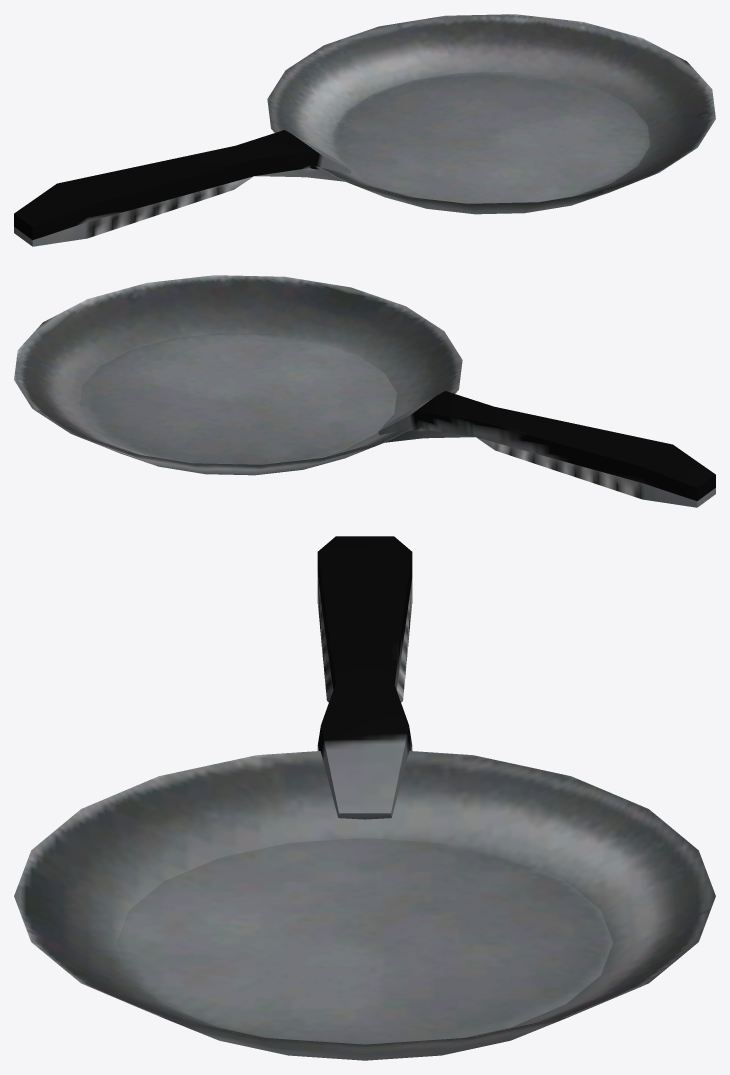
Rendered from eqp_cook_frying_pan_l0.fbx.
3 views of the same model, one above another, from view 1: azimuth 30°, elevation 25°; view 2: azimuth 150°, elevation 25°; view 3: azimuth 270°, elevation 25° (orthographic). The views are drawn at different scales.
Parts seen in each view (by area): view 1: mesh_node; view 2: mesh_node; view 3: mesh_node.
Part boxes in pixels (x1=…): mesh_node: x1=14, y1=14, x2=715, y2=246; mesh_node: x1=14, y1=275, x2=715, y2=507; mesh_node: x1=14, y1=536, x2=715, y2=1060.
Size of the model in its own units: 0.4458 by 0.0353 by 0.2624.
